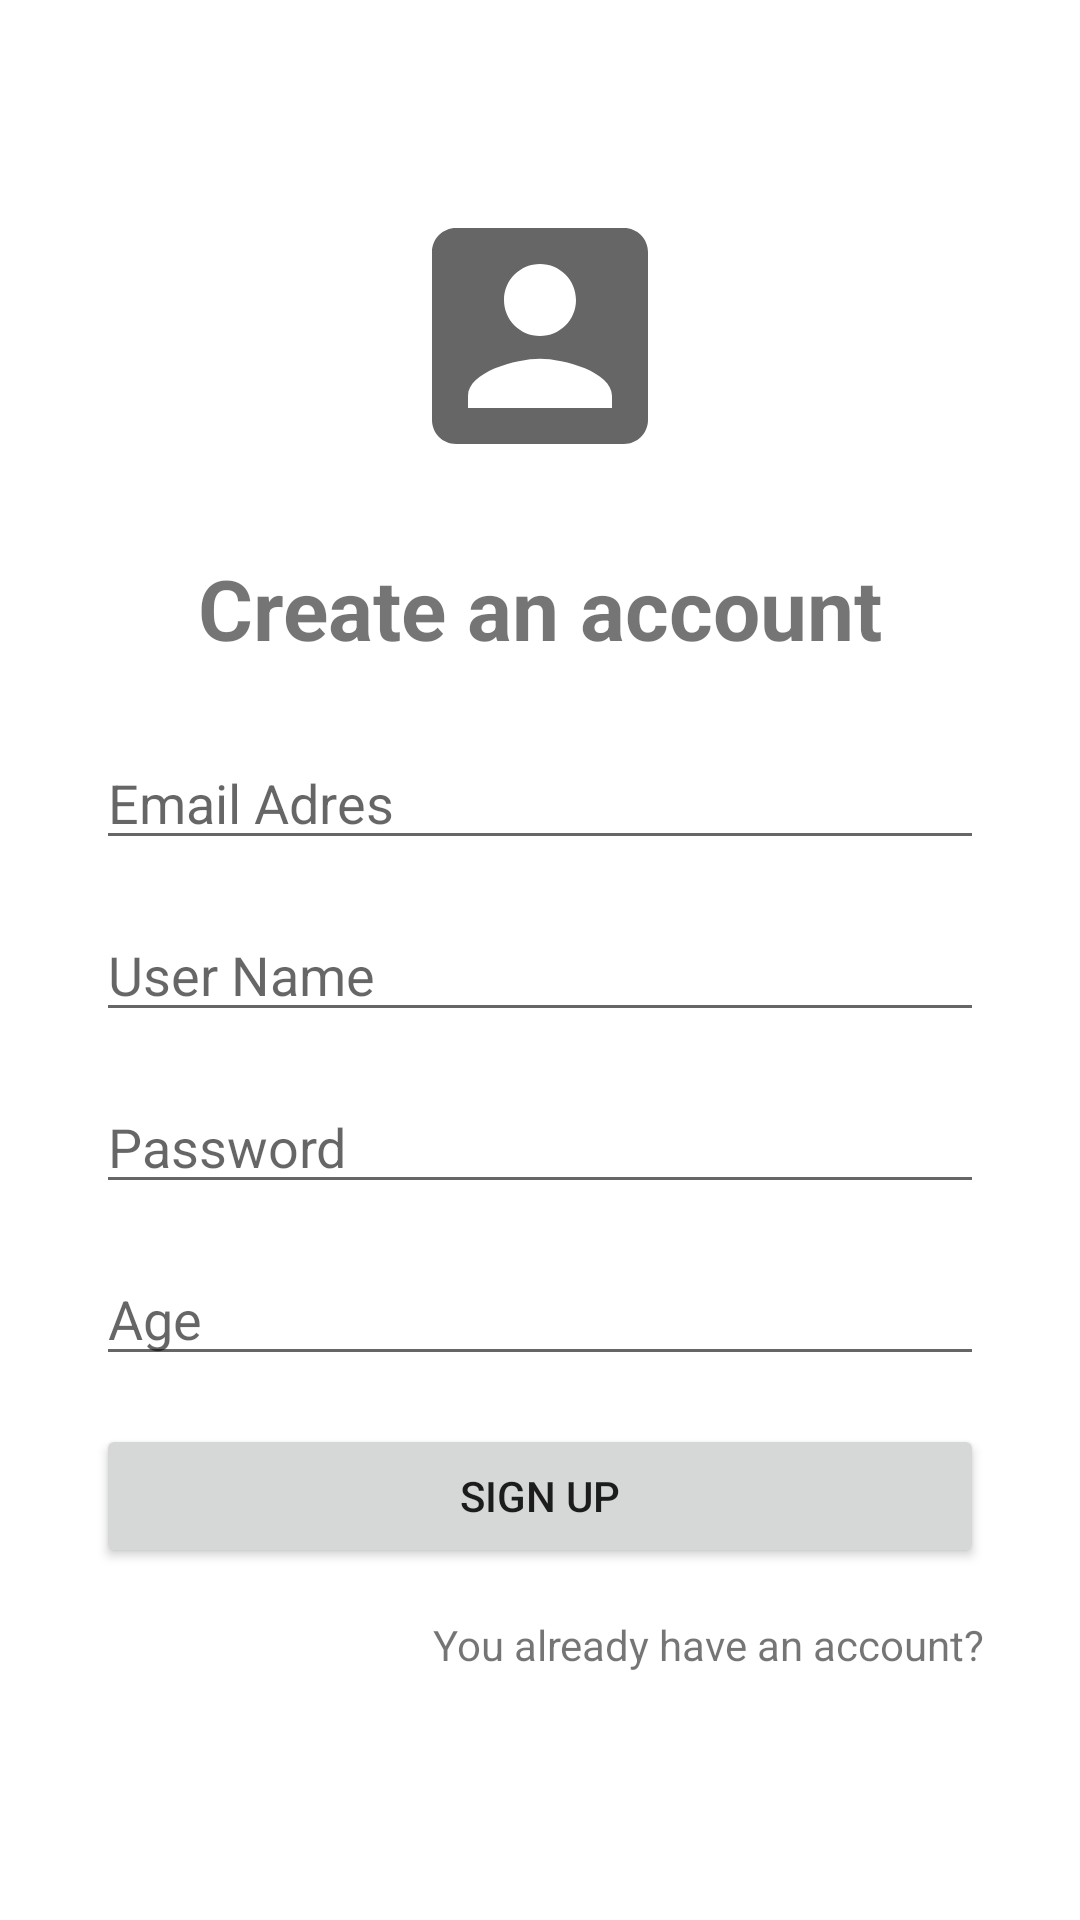

Where icons sit on this 1080*1920 app screen, as (x1, y1, x2, y2):
profile: (432, 228, 648, 444)
